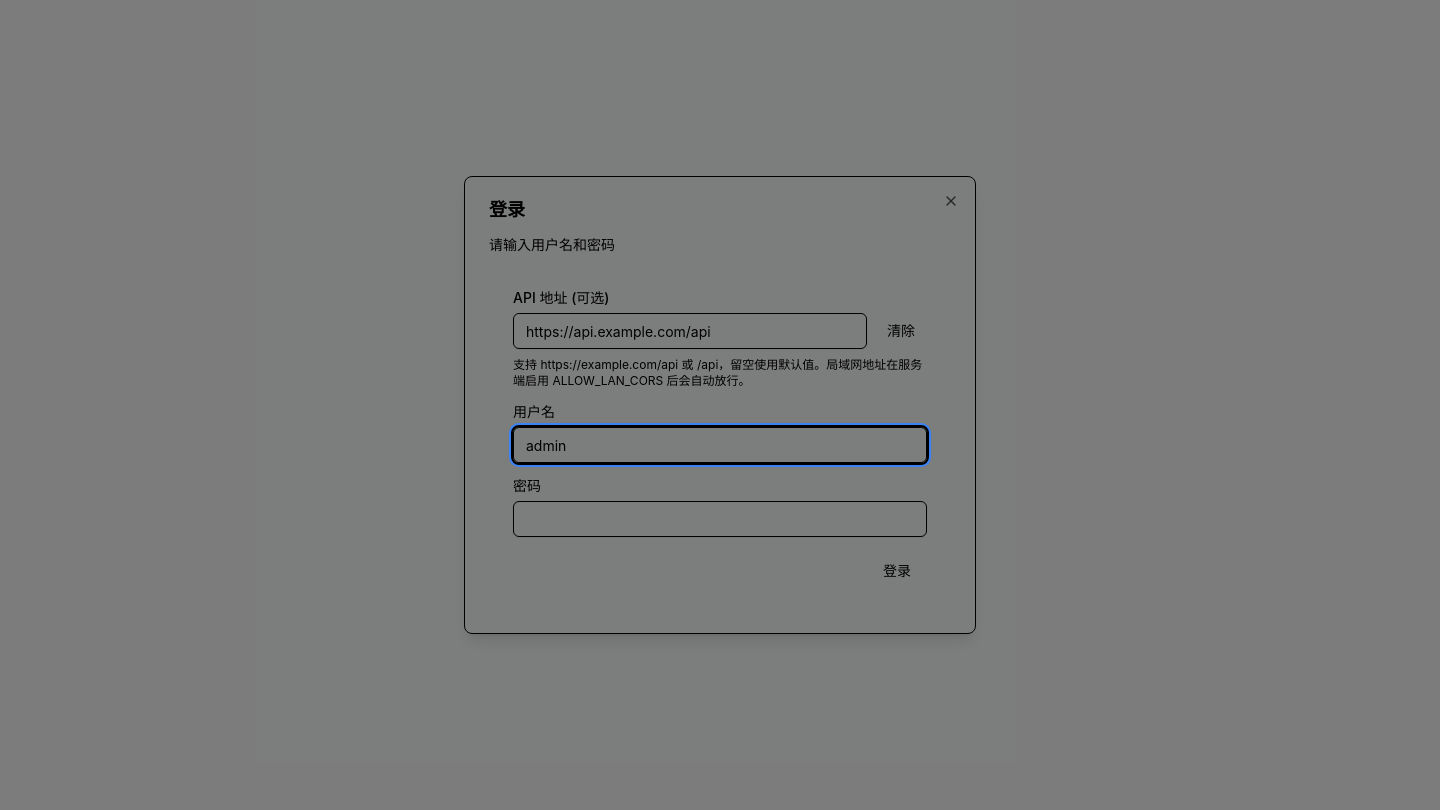
Test: WebLoginDialog › clears stored API base when clicking 清除
The width and height of the screenshot is (1440, 810).
Expected: the field labelled "API 地址 (可选)" holds "https://api.example.com/api", [513, 313, 867, 349]
Click the button "清除" at (901, 331), box [875, 315, 927, 347]
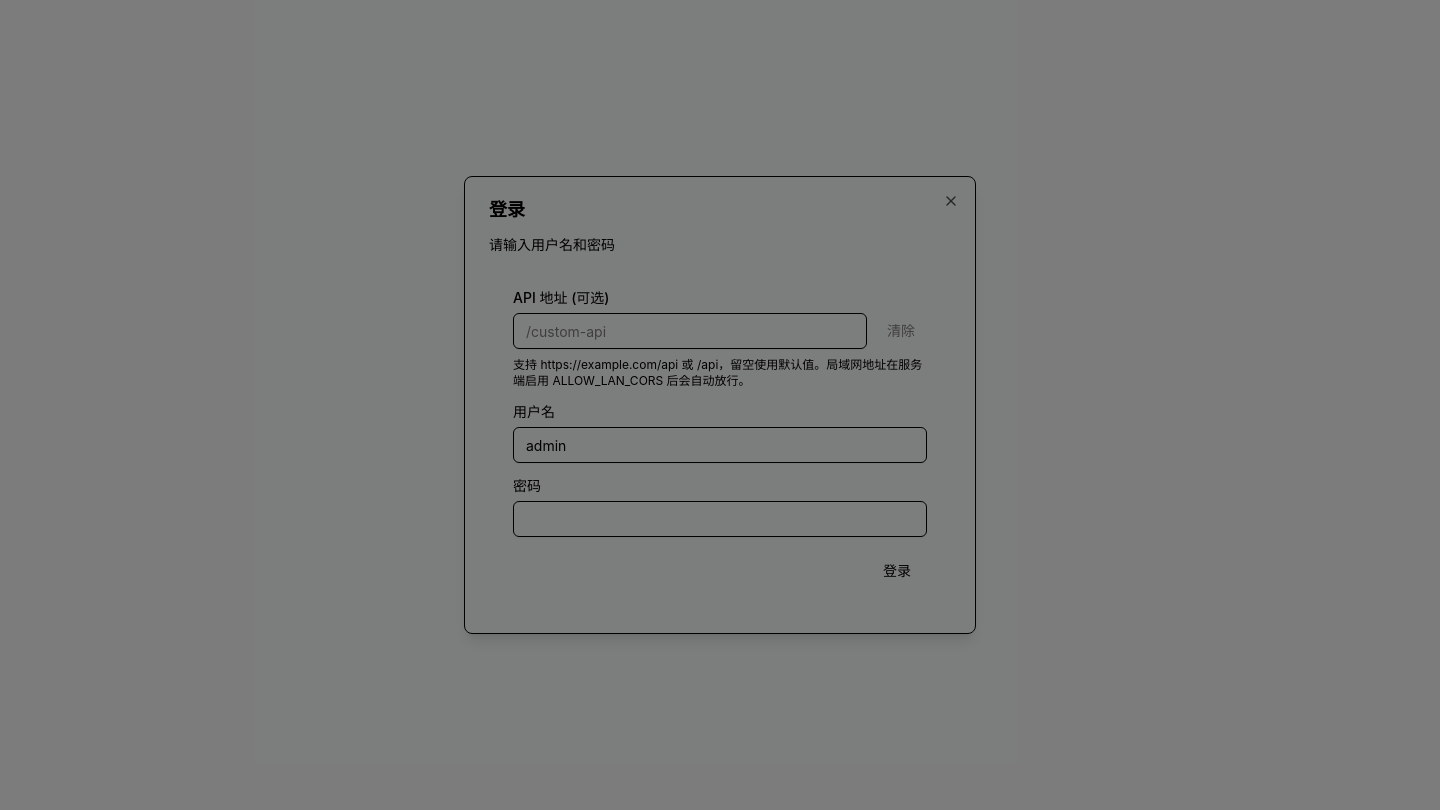
Expected: the field labelled "API 地址 (可选)" is empty, [513, 313, 867, 349]
